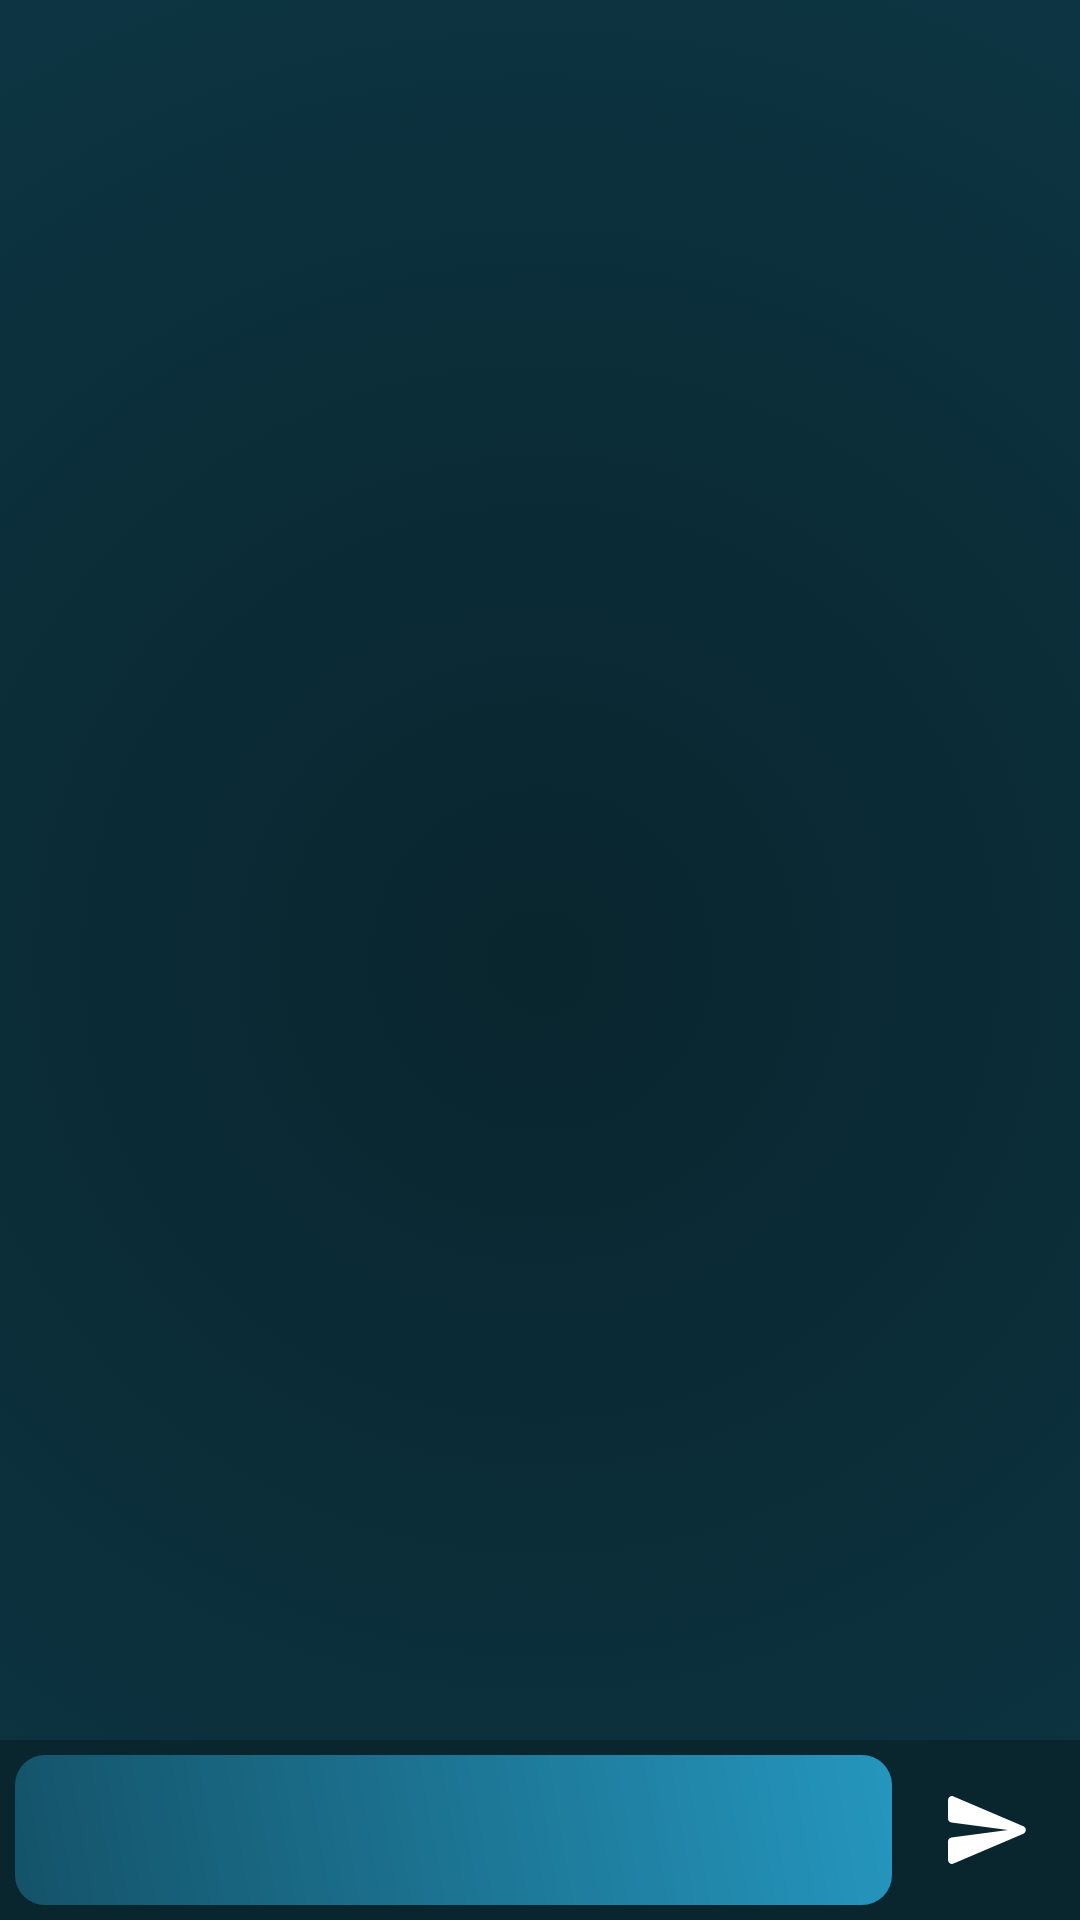

Named icons in this screenshot (1080x1920) and their bounding boxes, {"x1": x1, "y1": y1, "x2": x2, "y2": y2}:
send: {"x1": 948, "y1": 1796, "x2": 1026, "y2": 1864}
